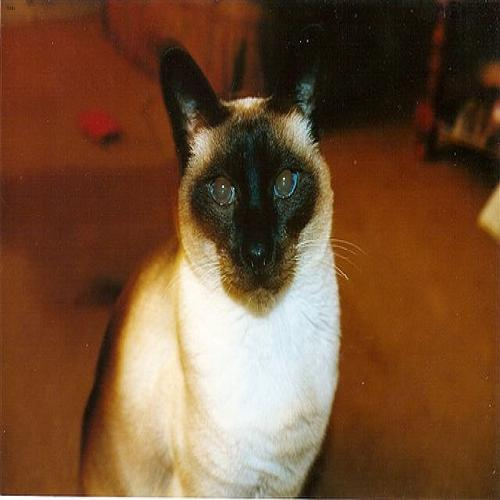siamese: (152, 32, 345, 318)
